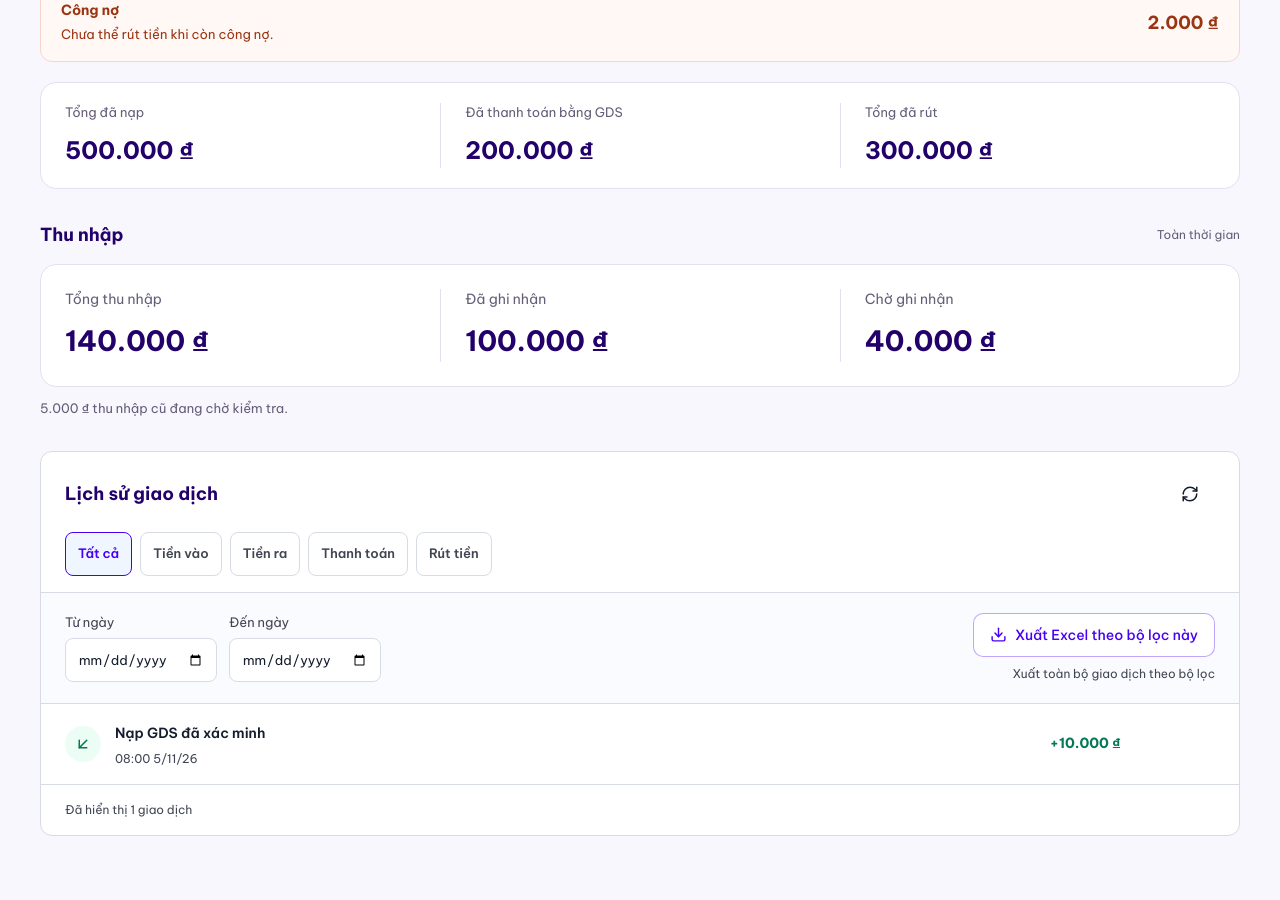
Test: wallet overview › distinguishes an empty filter from an empty wallet
This screenshot has width=1280, height=900.
(page scrolled)
Expected: the text "+10.000 ₫" is shown, [1050,734,1121,752]
Click the button with aria-label "Lọc: Tiền ra" at (265, 554), box [230,532,300,576]
(page scrolled)
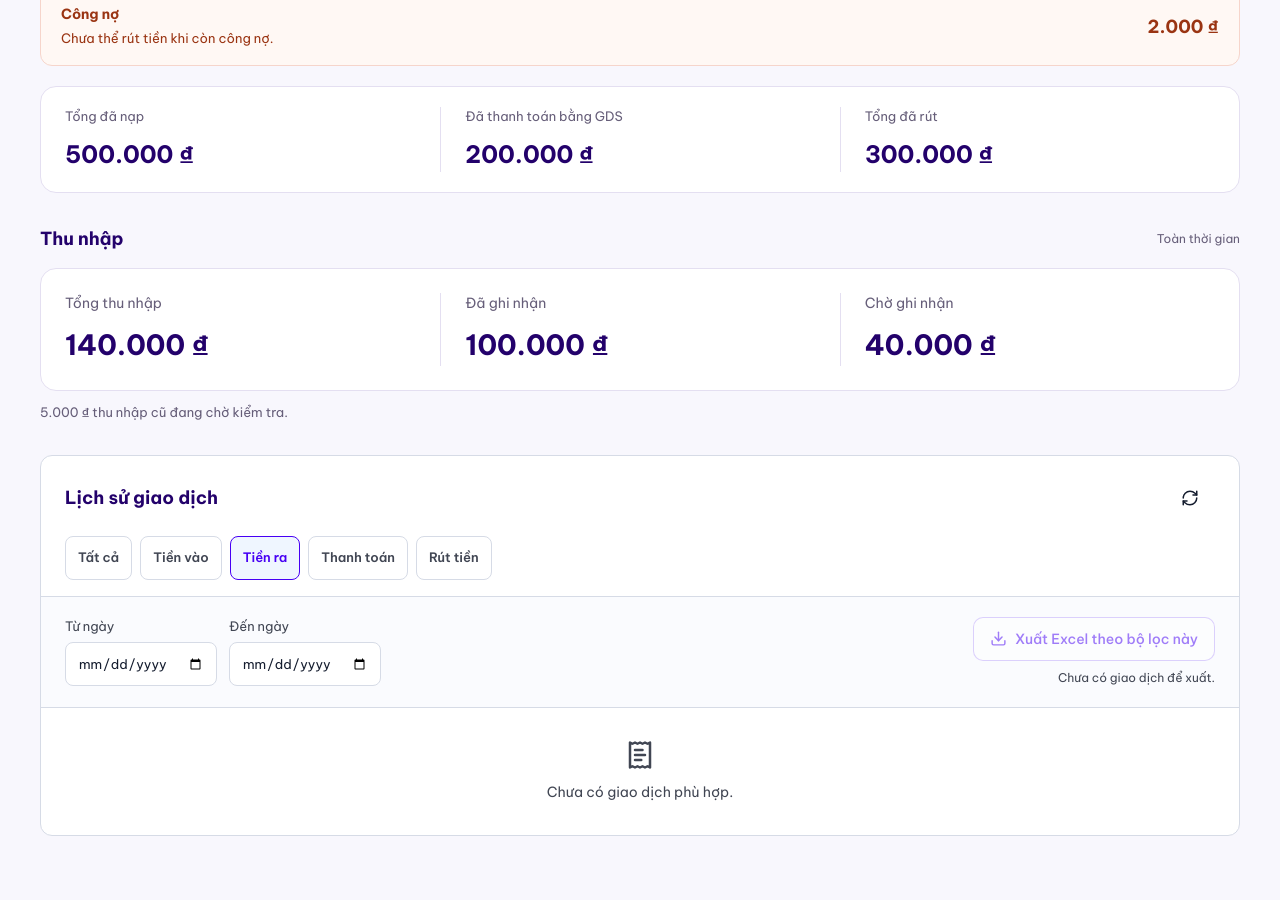
Now the text "Chưa có giao dịch phù hợp." is shown, box [547,782,733,803]
